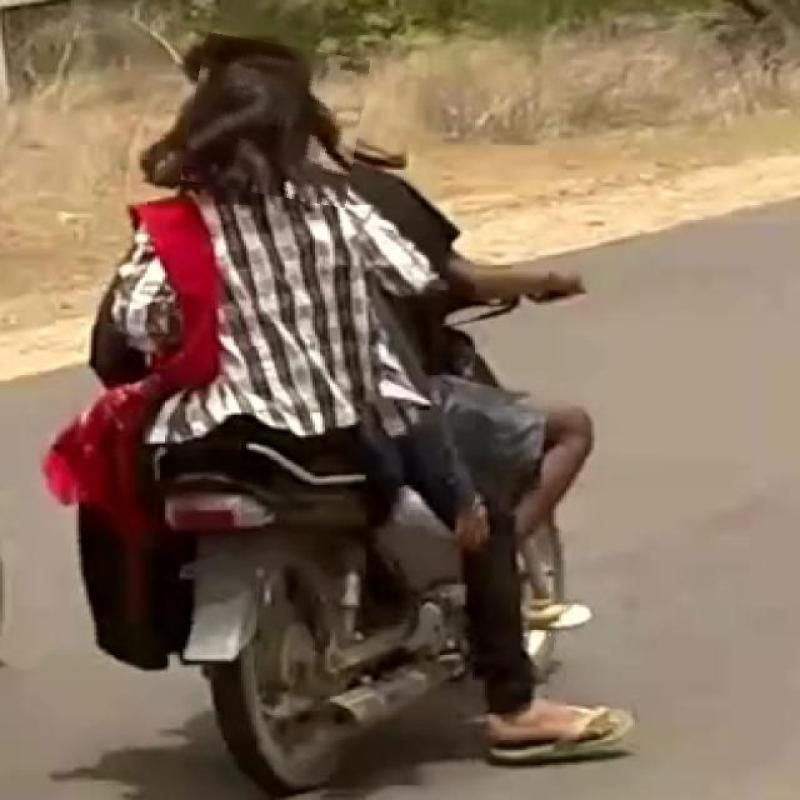nohelmet: (186, 39, 365, 202)
